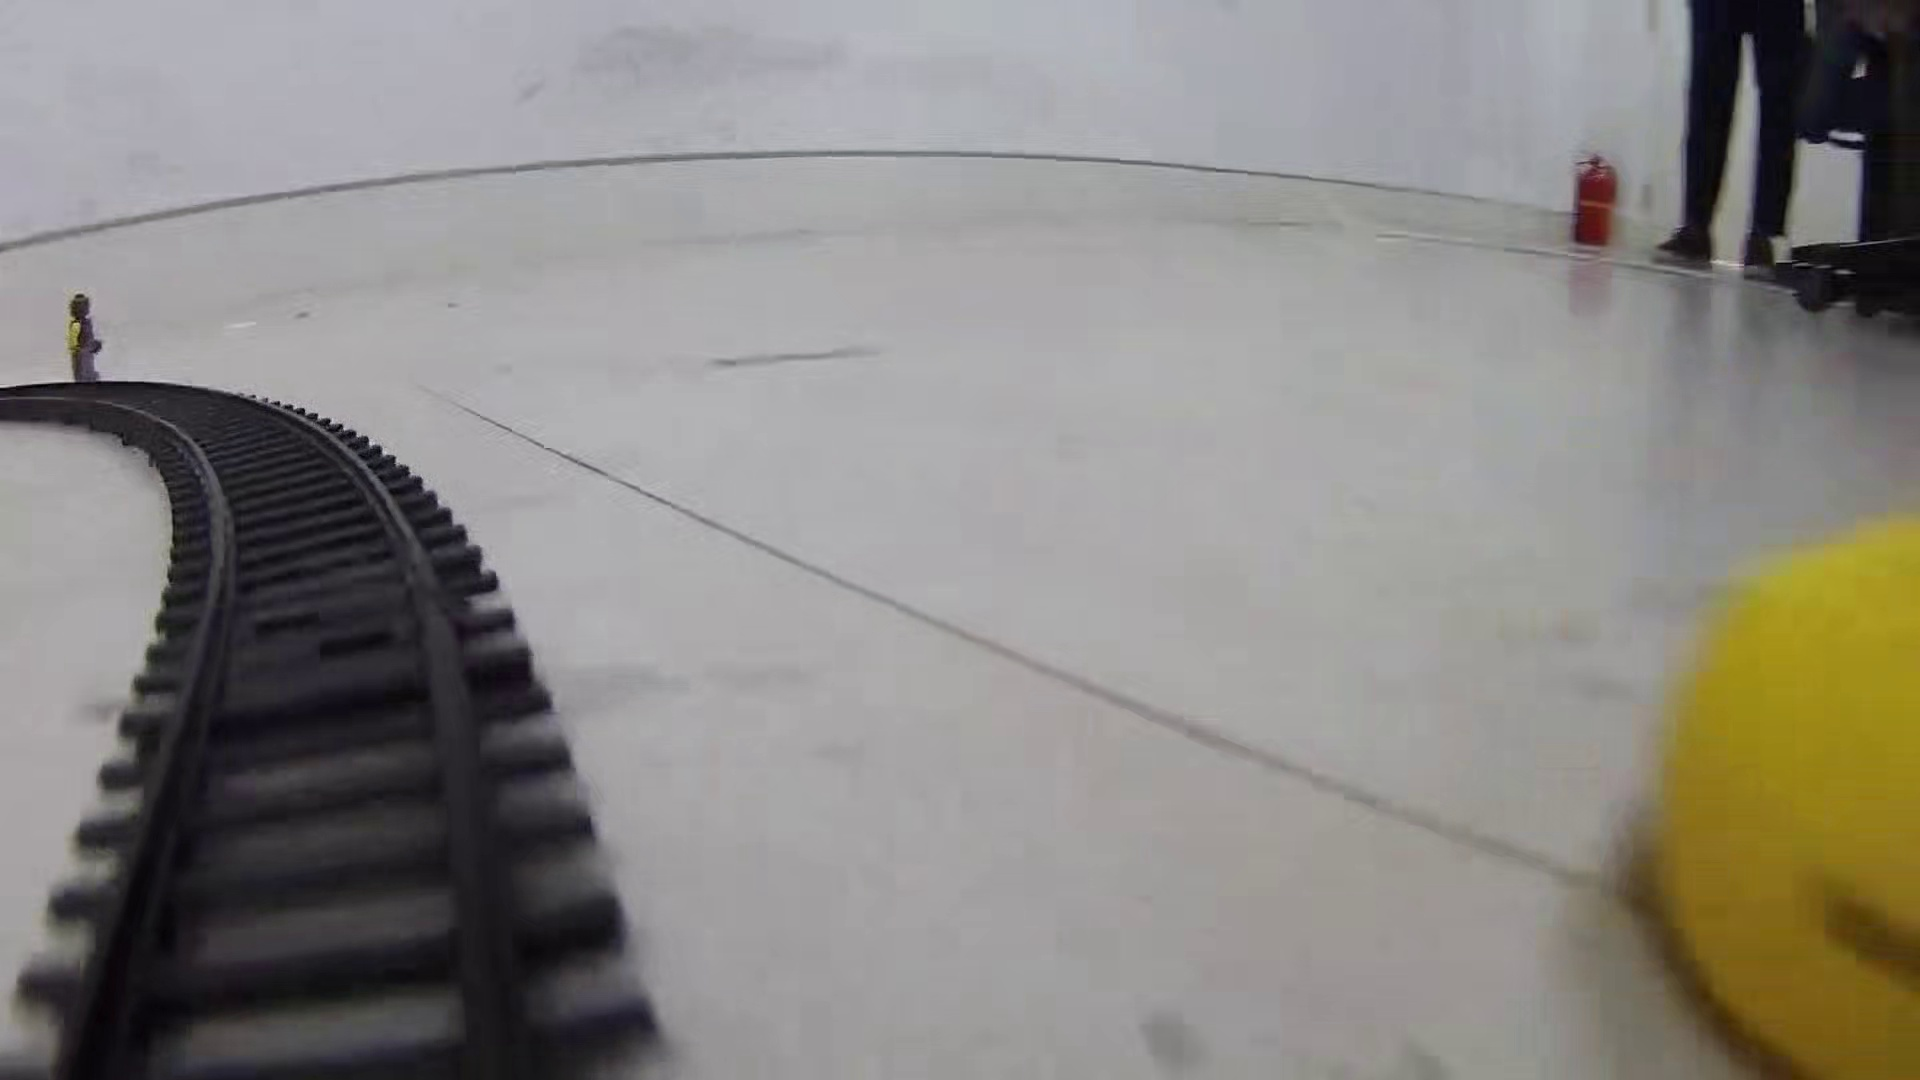people: (65, 290, 104, 387)
